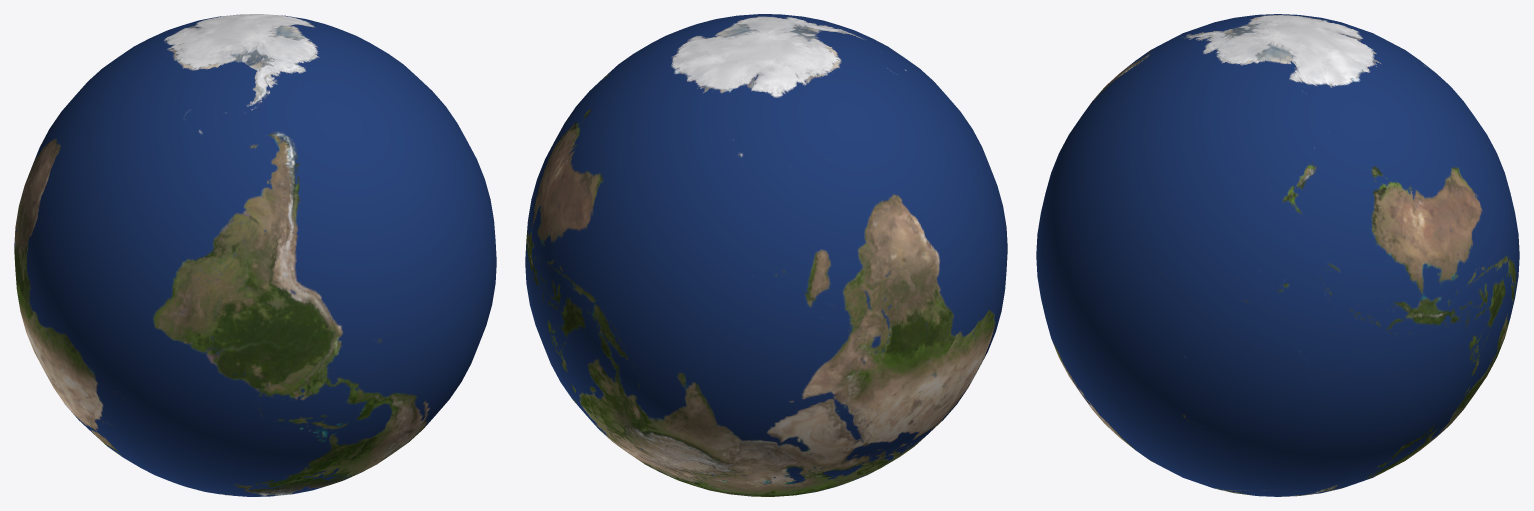
The model's file is earth.obj.
The picture shows the model from 3 angles, left to right: view 1: azimuth 30°, elevation 25°; view 2: azimuth 150°, elevation 25°; view 3: azimuth 270°, elevation 25°; orthographic projection.
Parts seen in each view (by area): view 1: Sphere_Sphere.002; view 2: Sphere_Sphere.002; view 3: Sphere_Sphere.002.
Part boxes in pixels (x1,y1,x2,y2): Sphere_Sphere.002: [14, 14, 496, 496]; Sphere_Sphere.002: [525, 14, 1007, 496]; Sphere_Sphere.002: [1036, 14, 1519, 496].
Bounding box in the file's own units: 2 × 2 × 2.
